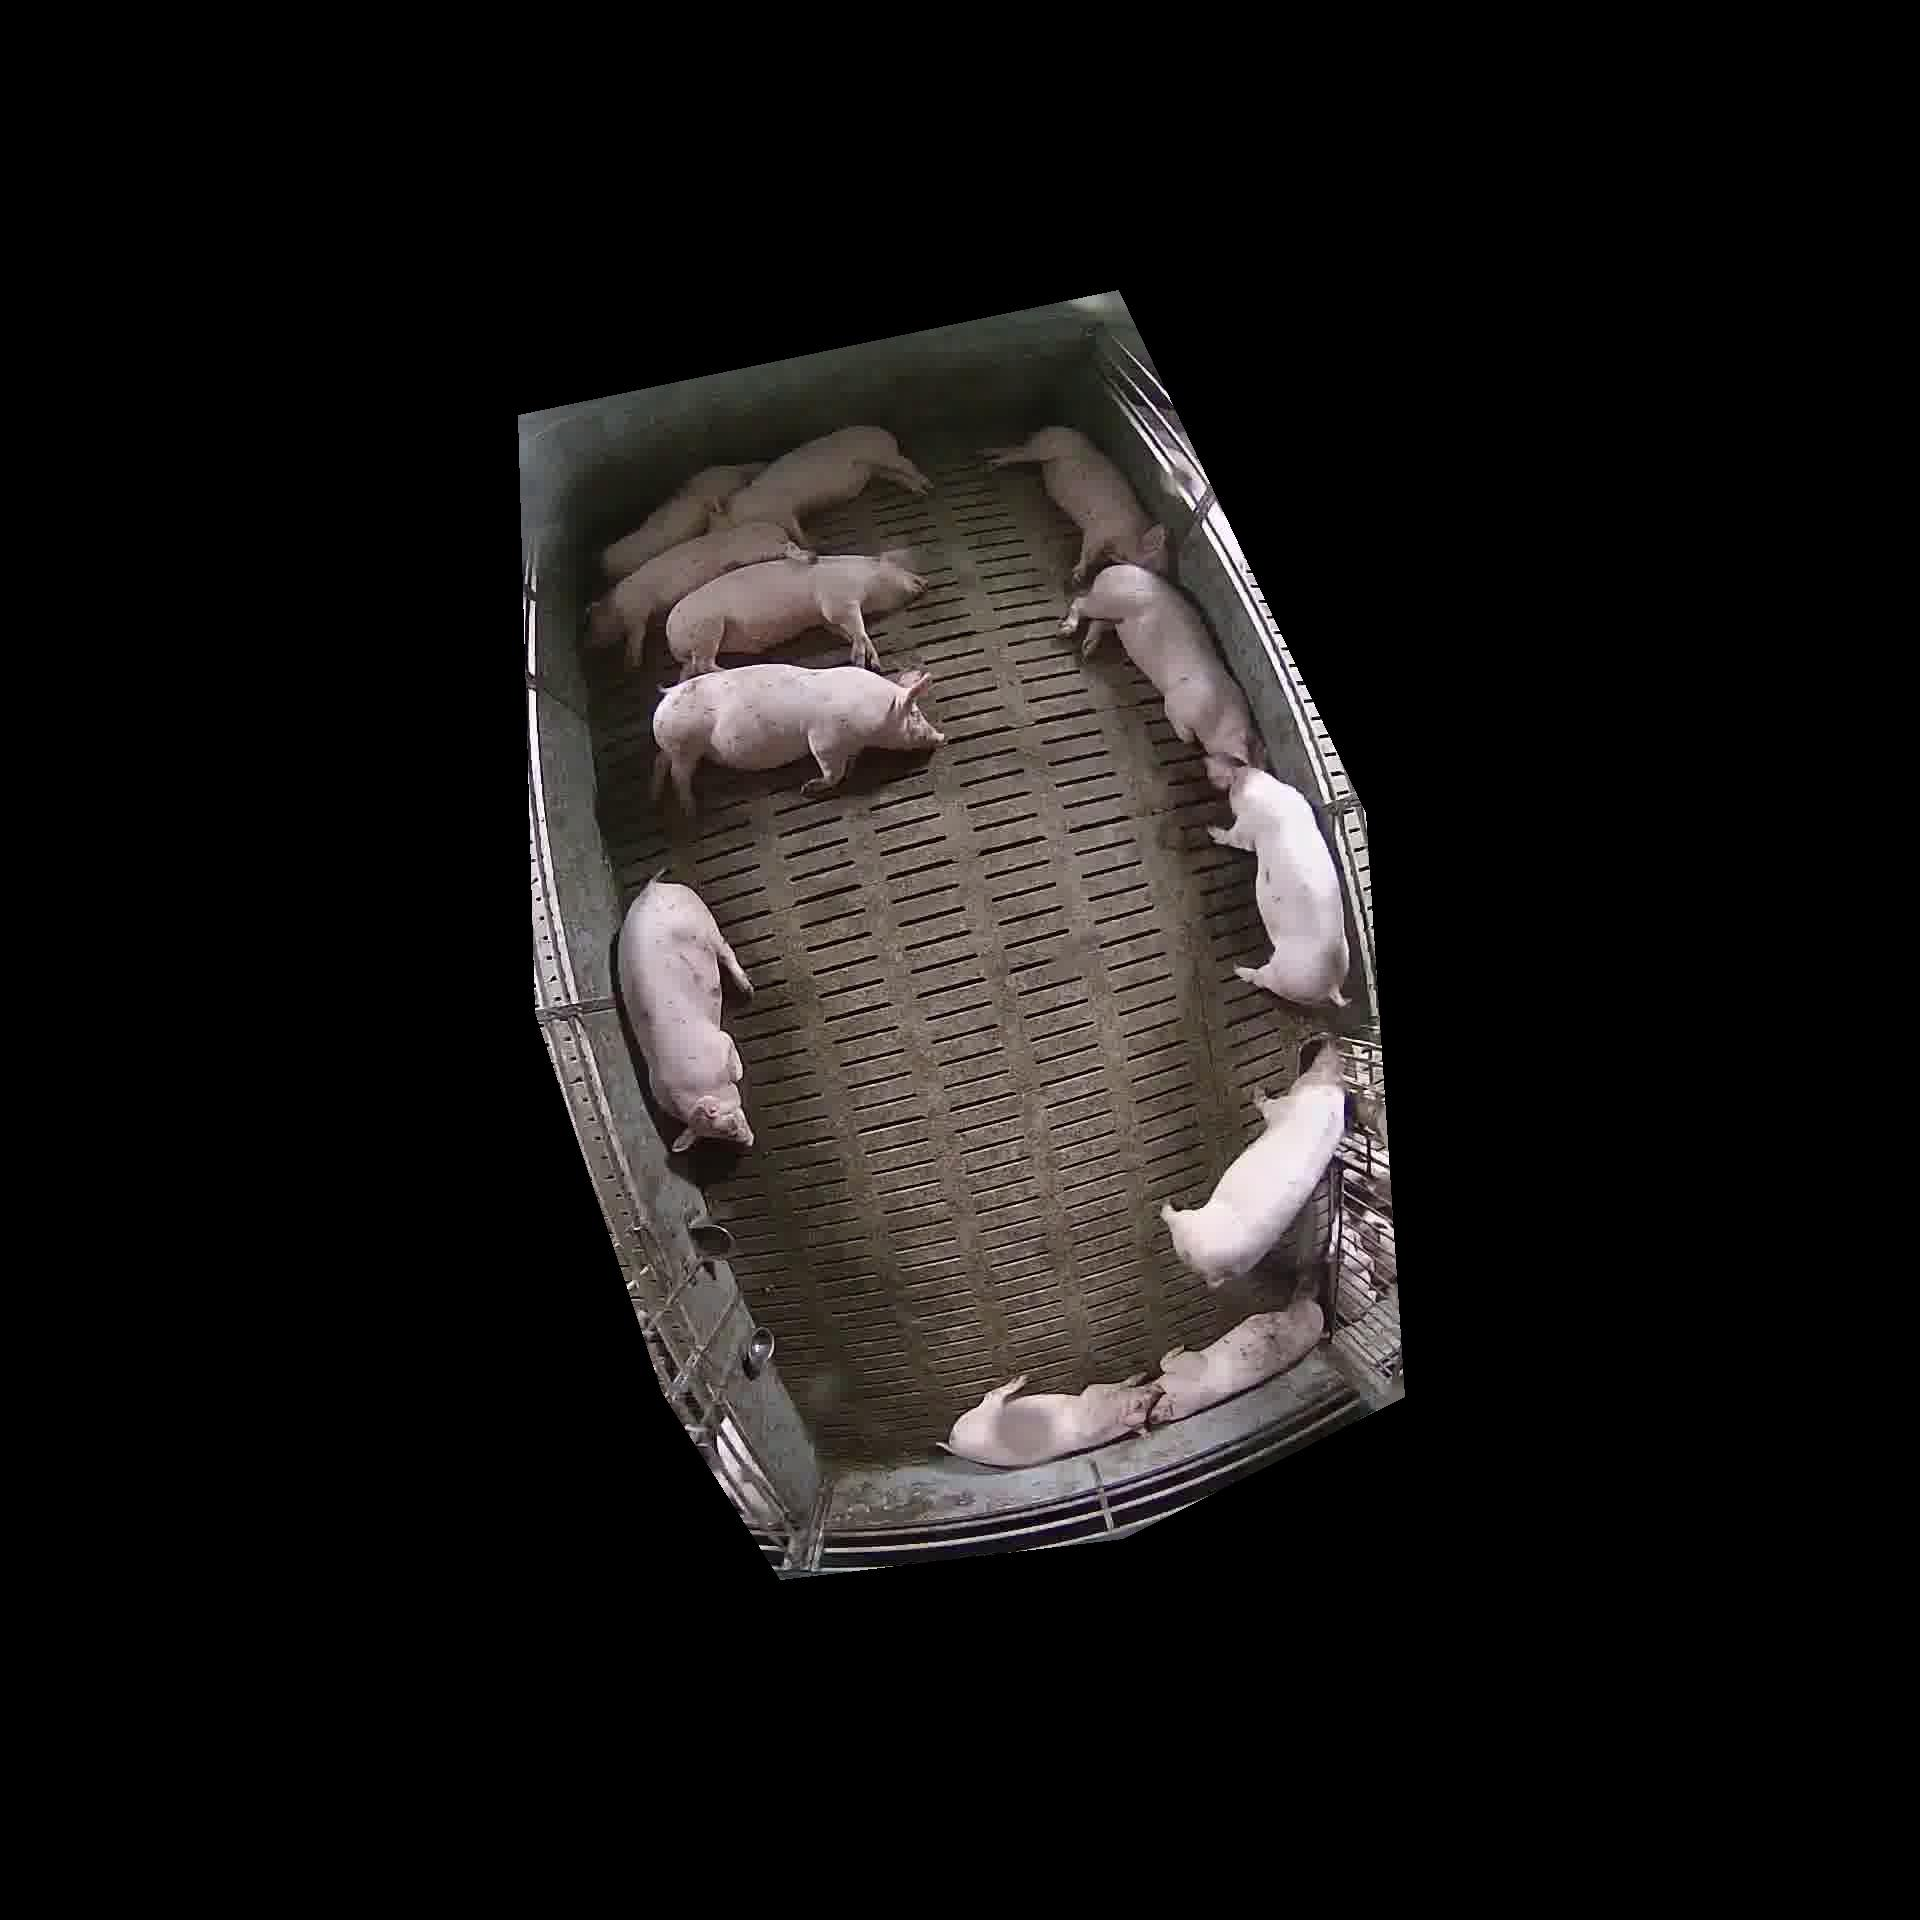pig: (1162, 1041, 1343, 1287), (1060, 563, 1261, 784), (652, 665, 944, 812), (617, 879, 753, 1150), (1210, 768, 1345, 1002), (666, 556, 927, 677), (587, 522, 805, 666), (985, 425, 1167, 582), (714, 425, 930, 543), (1150, 1298, 1324, 1422), (948, 1377, 1160, 1466), (601, 462, 763, 578)
